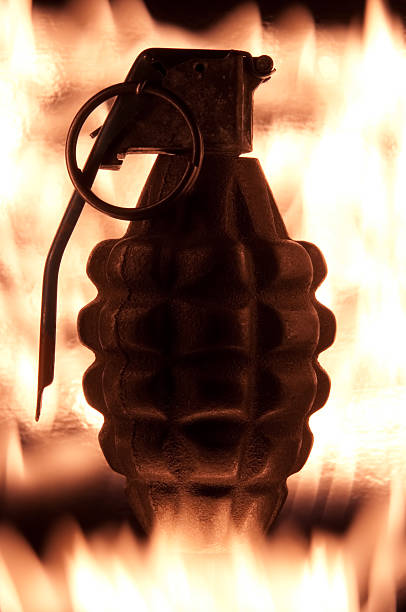e1: (28, 46, 341, 535)
